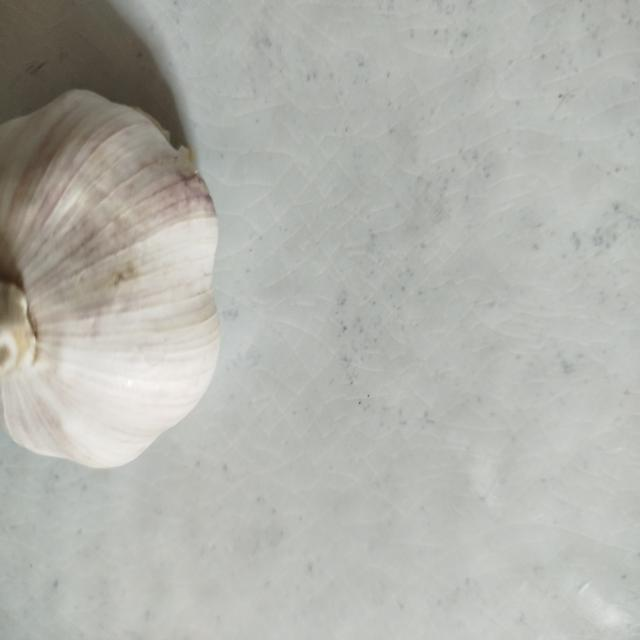garlic: (0, 87, 221, 469)
